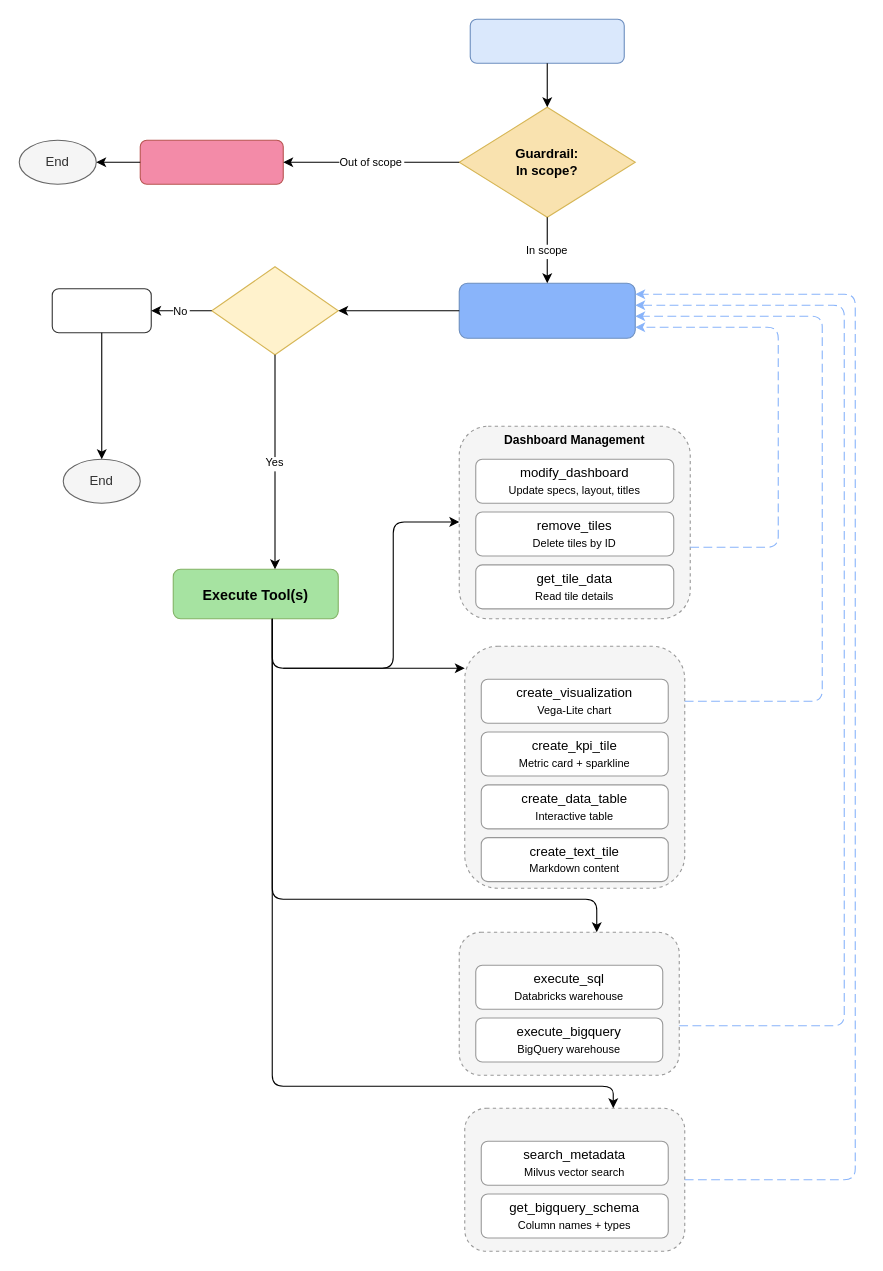
The diagram is 883 pixels wide and 1271 high, and some of its shapes have lost their labels. Each missing label, with the box of its shape:
Data Querying: (458, 931, 679, 1075)
Discovery: (464, 1107, 685, 1251)
LLM Agent (Gemini / OpenAI): (458, 282, 635, 338)
Needs tools?: (211, 266, 338, 355)
Polite refusal: (139, 139, 283, 184)
Text response: (51, 288, 151, 333)
Tile Creation: (464, 645, 685, 888)
User Message: (469, 18, 624, 63)
